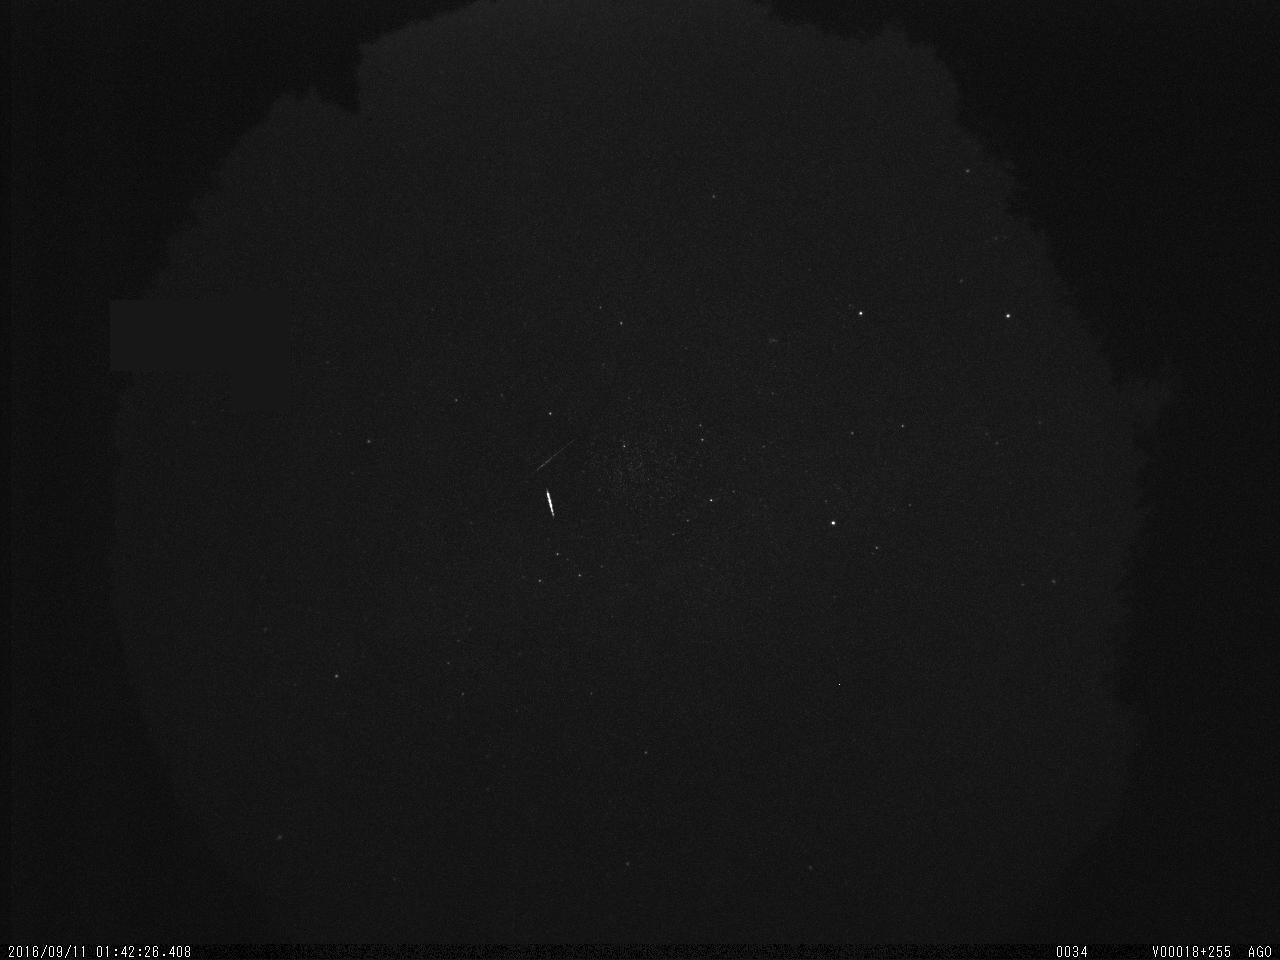meteor: (540, 479, 562, 525)
